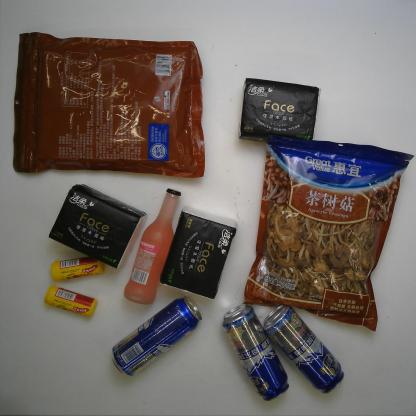Alcohol: (108, 294, 206, 380), (218, 301, 298, 404), (263, 305, 348, 394), (126, 187, 185, 307)
Candy: (42, 284, 104, 324), (49, 249, 116, 284)
Dried Food: (246, 127, 415, 333), (12, 30, 206, 179)
Tissue: (44, 182, 150, 270), (158, 206, 239, 302), (237, 72, 322, 144)
